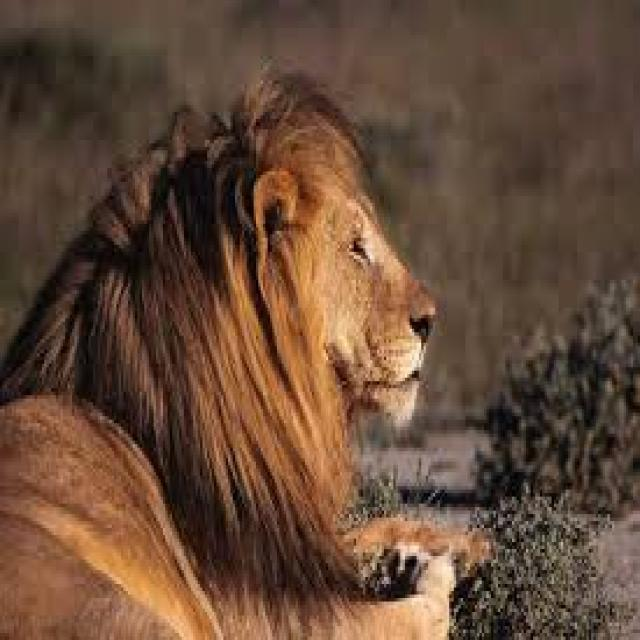Lion: (0, 81, 494, 637)
